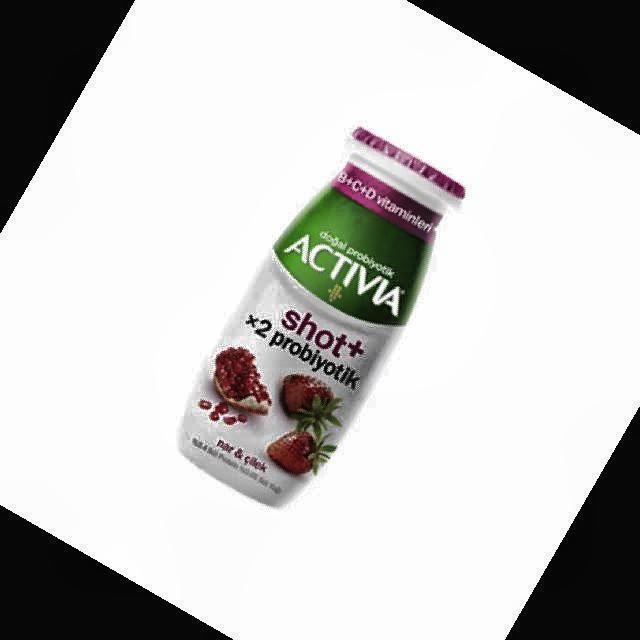plastic: (180, 129, 465, 506)
